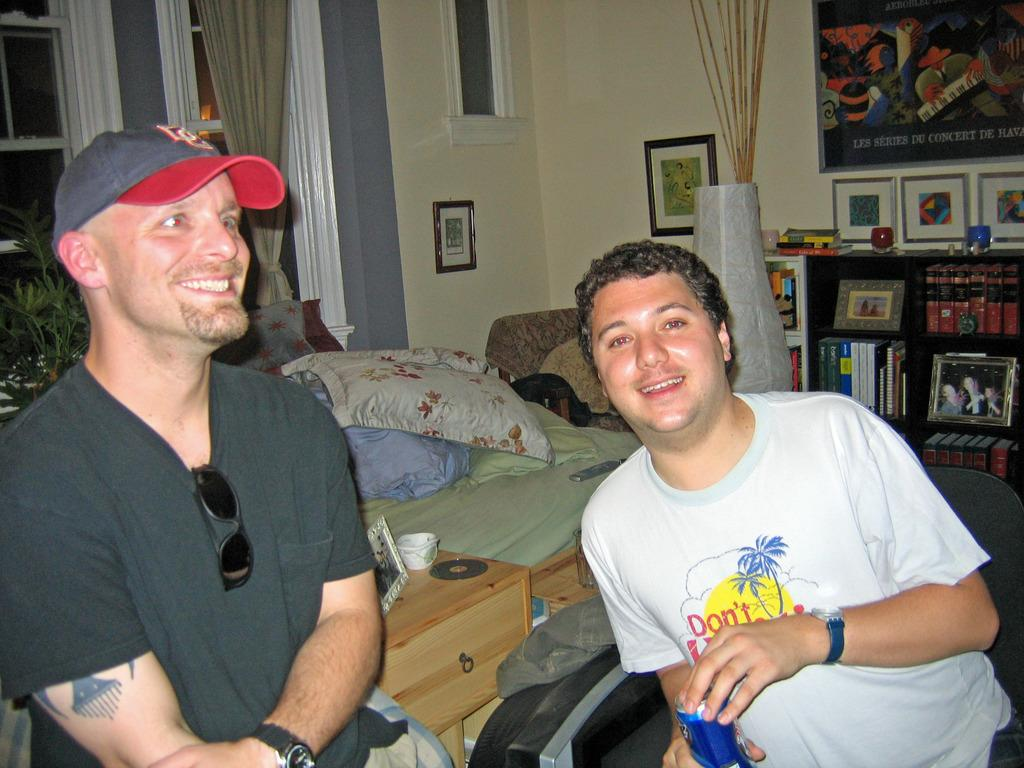Hat: (52, 121, 289, 254)
